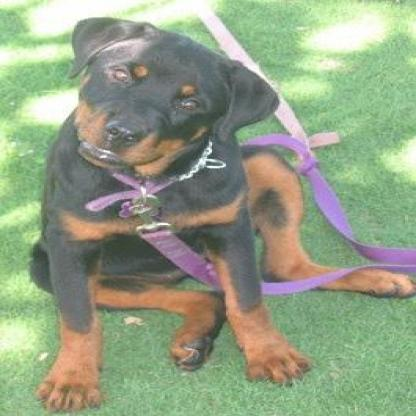Rottweiler: (31, 15, 413, 410)
